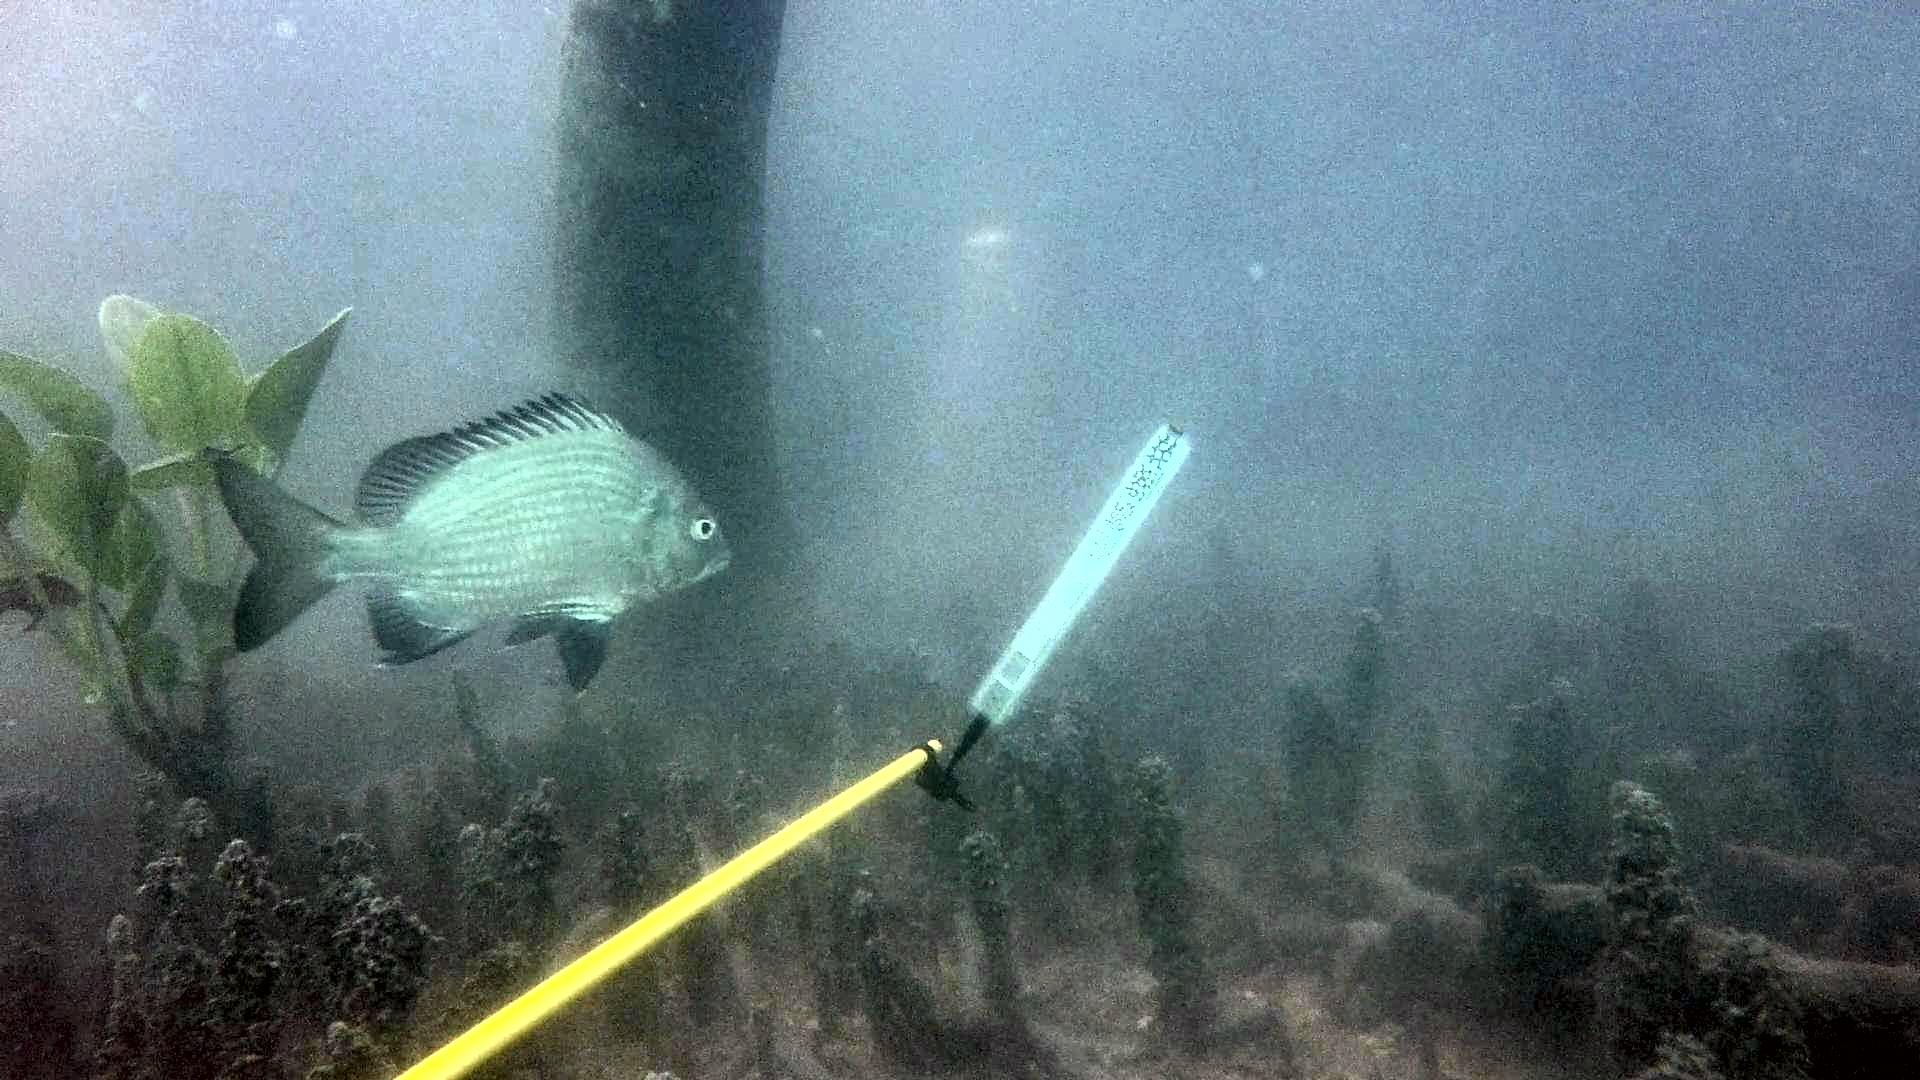acanthopagrus palmaris: (202, 386, 737, 700)
